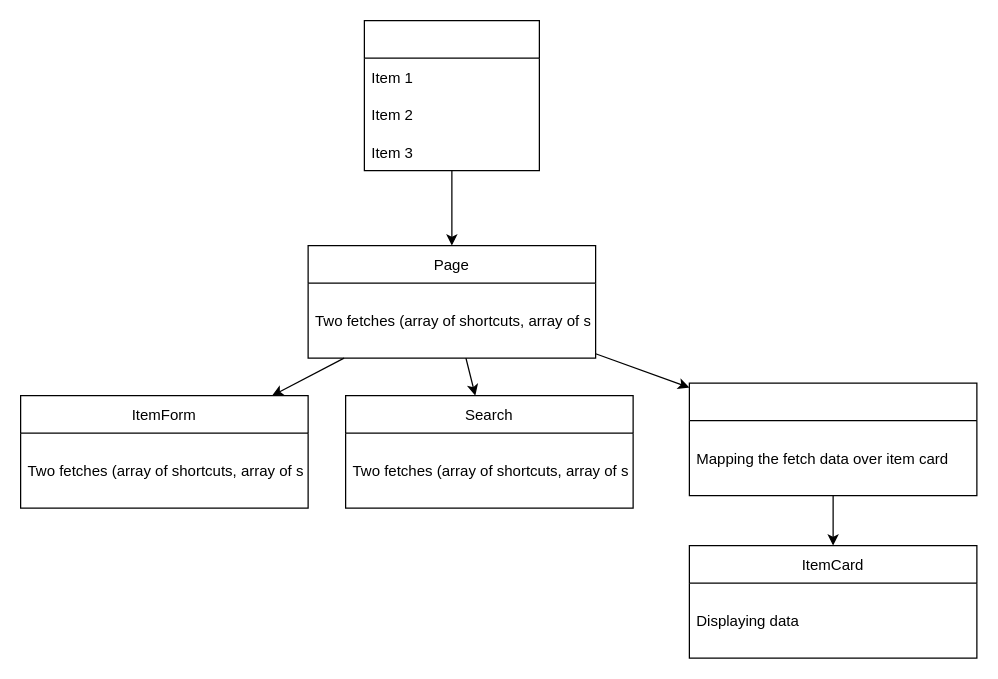
Image size: 998x679. Some labels were removed from this diagram. Here are the shapes that lost their labels. From the top down, the box of each, then its label:
(363, 19, 539, 171): App
(688, 382, 977, 496): Collection
